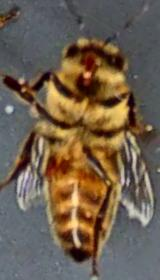varroa_mite: (40, 152, 68, 180)
